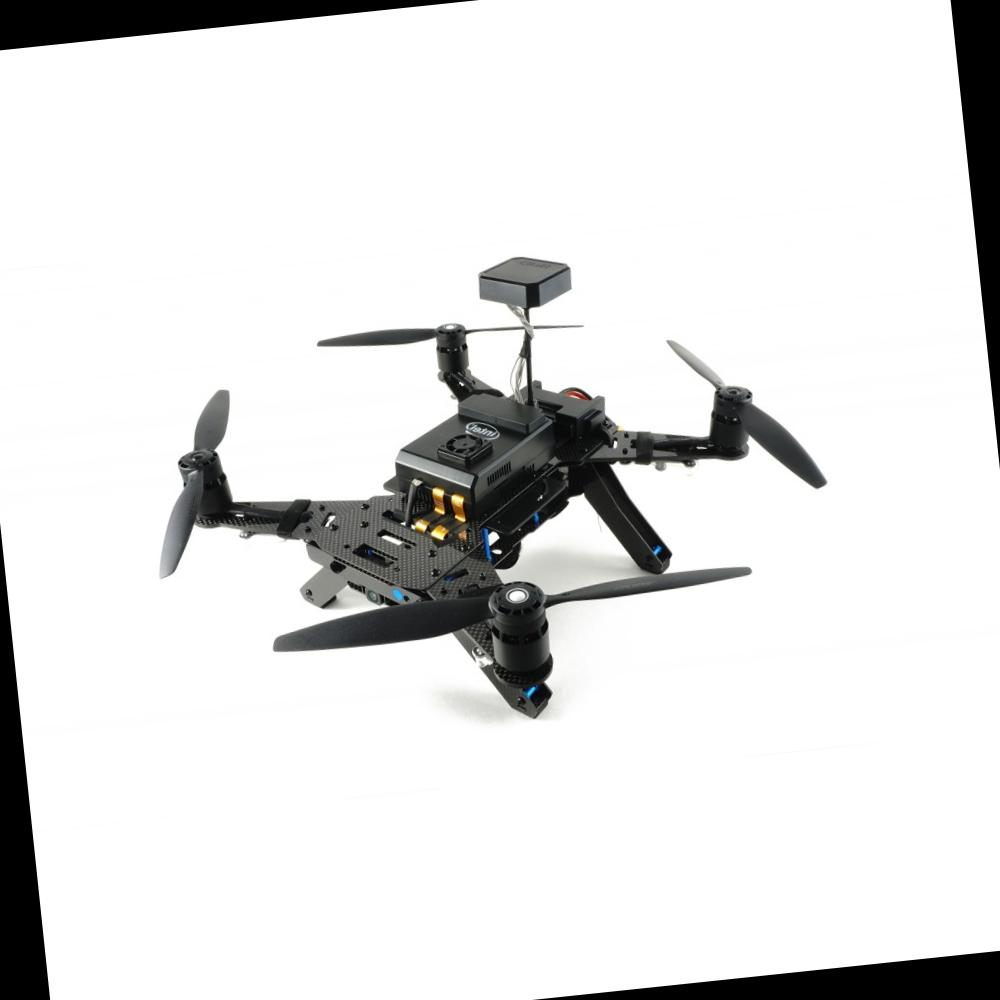drone: (96, 239, 875, 758)
